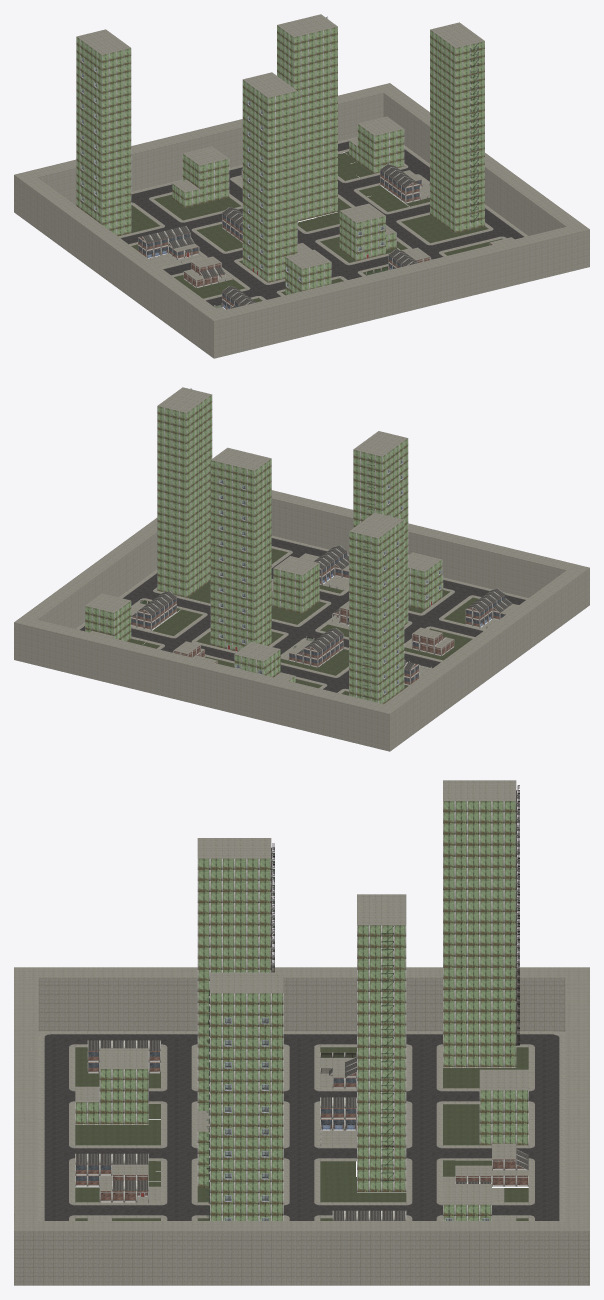
Rendered from map_test.glb.
3 views of the same model, one above another, from view 1: azimuth 30°, elevation 25°; view 2: azimuth 150°, elevation 25°; view 3: azimuth 270°, elevation 25° (orthographic). The views are drawn at different scales.
Parts seen in each view (by area): view 1: geometry, outer_wall; view 2: geometry, outer_wall; view 3: geometry, outer_wall.
Part boxes in pixels (x1,y1,x2,y2): geometry: (76,14,527,311); outer_wall: (14,83,589,358); geometry: (76,387,528,704); outer_wall: (14,490,589,751); geometry: (38,780,565,1220); outer_wall: (14,967,589,1285).
Size of what is drawn, in the model's own units: 51 by 24.11 by 47.
41 materials, 41 textured.
